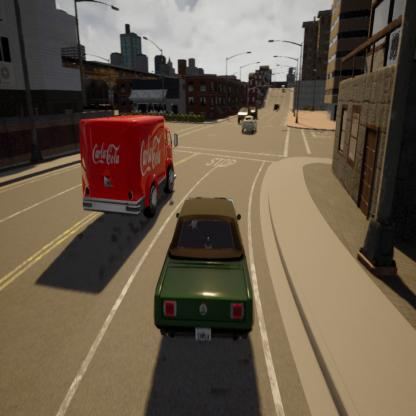Cars: (152, 199, 254, 343), (78, 118, 176, 220), (241, 116, 258, 136), (238, 105, 249, 120), (272, 102, 281, 114), (250, 108, 257, 119)
